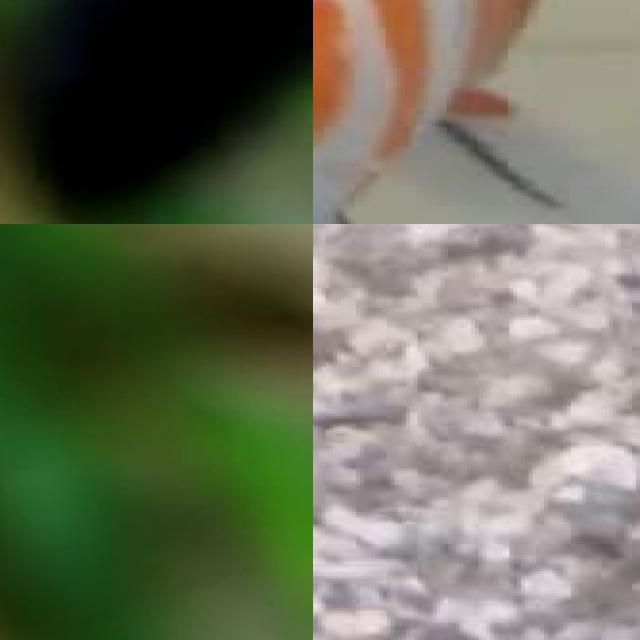fish: (0, 0, 313, 224)
